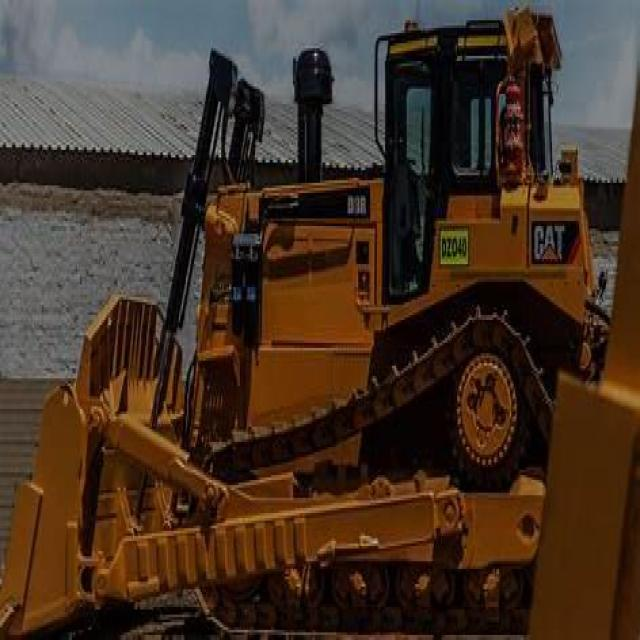buldozerpayloadergrader: (26, 10, 638, 638)
